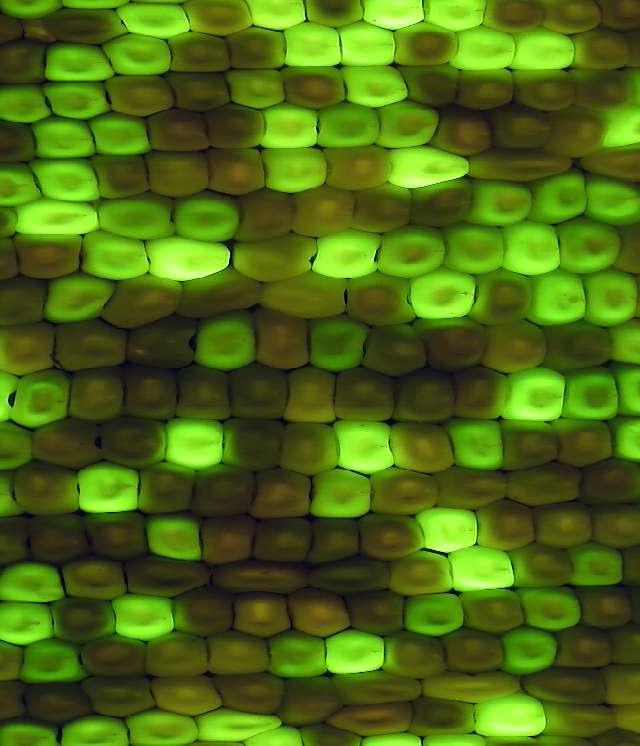fluorescent: (142, 231, 231, 280), (79, 229, 159, 282), (386, 143, 473, 189), (172, 190, 244, 245), (329, 419, 398, 475), (554, 218, 621, 275), (382, 226, 449, 282), (30, 154, 105, 203), (198, 311, 260, 370), (10, 197, 99, 238), (503, 366, 568, 422), (467, 691, 547, 736), (257, 144, 330, 193), (95, 195, 176, 239), (529, 270, 589, 329), (312, 231, 384, 280), (162, 417, 226, 472), (339, 63, 413, 110), (409, 271, 477, 322), (190, 705, 281, 743), (499, 223, 563, 277), (74, 463, 143, 513), (443, 223, 508, 276), (467, 177, 537, 226), (560, 365, 620, 422), (579, 270, 640, 326), (446, 547, 521, 592), (443, 417, 509, 468), (306, 316, 369, 369), (257, 100, 321, 152), (117, 707, 202, 746), (375, 102, 443, 150), (14, 372, 72, 428), (514, 585, 586, 630), (317, 101, 382, 150), (90, 110, 155, 159), (24, 116, 98, 159), (45, 275, 114, 321), (321, 628, 388, 675), (19, 640, 93, 682), (41, 40, 113, 83), (110, 595, 180, 639), (527, 175, 590, 223), (40, 77, 112, 119), (103, 34, 173, 77), (268, 630, 330, 678), (399, 593, 468, 636), (583, 173, 640, 225), (144, 513, 207, 560), (512, 26, 579, 70), (308, 469, 370, 516), (0, 560, 66, 604), (455, 26, 519, 71), (417, 507, 480, 552), (496, 626, 556, 673), (116, 3, 194, 38), (282, 25, 342, 70), (334, 21, 398, 63), (0, 598, 55, 646), (569, 543, 626, 589), (0, 158, 47, 210), (57, 713, 129, 746), (0, 82, 54, 125), (420, 1, 486, 34), (358, 1, 429, 30), (599, 100, 640, 144), (0, 717, 62, 746), (0, 421, 35, 470), (248, 1, 305, 31), (607, 322, 640, 370), (608, 416, 640, 462), (238, 727, 308, 746), (0, 1, 64, 20), (420, 732, 483, 746), (186, 734, 246, 746), (362, 734, 419, 746), (61, 1, 131, 9)
nonfluorescent: (100, 275, 189, 333), (260, 267, 349, 317), (345, 271, 422, 328), (50, 319, 133, 370), (175, 273, 268, 318), (127, 316, 203, 371), (251, 305, 316, 369), (82, 509, 158, 562), (232, 234, 320, 279), (467, 146, 575, 182), (365, 320, 433, 377), (540, 319, 616, 369), (277, 418, 339, 479), (418, 319, 492, 370), (119, 364, 181, 424), (32, 416, 106, 466), (283, 362, 339, 428), (102, 417, 173, 469), (498, 418, 562, 475), (332, 367, 398, 422), (391, 370, 457, 424), (389, 421, 455, 475), (125, 558, 214, 598), (290, 186, 357, 239), (172, 365, 235, 421), (367, 468, 439, 517), (282, 589, 354, 638), (48, 596, 121, 644), (204, 145, 270, 198), (484, 321, 551, 373), (222, 415, 282, 473), (319, 144, 396, 189), (226, 363, 289, 418), (40, 8, 131, 46), (500, 465, 582, 507), (213, 560, 314, 594), (13, 231, 86, 278), (430, 105, 494, 158), (26, 512, 91, 564), (0, 323, 60, 379), (475, 268, 536, 323), (472, 502, 539, 552), (16, 465, 83, 515), (277, 677, 342, 728), (248, 514, 317, 562), (380, 631, 448, 679), (329, 670, 425, 704), (148, 148, 213, 198), (487, 104, 553, 153), (192, 465, 256, 515), (359, 511, 427, 558), (145, 632, 213, 679), (422, 673, 525, 704), (433, 467, 509, 509), (64, 370, 125, 422), (280, 65, 350, 110), (520, 671, 610, 706), (212, 674, 287, 716), (102, 73, 175, 116), (85, 670, 153, 716), (149, 673, 224, 714), (546, 107, 610, 155), (235, 189, 295, 240), (457, 591, 528, 634), (552, 417, 613, 467), (136, 463, 198, 512), (453, 366, 509, 420), (206, 103, 270, 150), (228, 592, 296, 636), (253, 469, 315, 517), (167, 68, 236, 111), (82, 632, 151, 675), (196, 515, 255, 565), (509, 68, 577, 111), (170, 593, 238, 636), (410, 695, 481, 736), (206, 632, 272, 676), (392, 25, 461, 67), (442, 629, 506, 674), (530, 501, 595, 545), (332, 700, 413, 735), (311, 560, 394, 594), (552, 627, 616, 671), (411, 182, 473, 227), (90, 153, 153, 197), (353, 187, 414, 232), (146, 111, 211, 153), (224, 27, 289, 69), (401, 62, 460, 108), (567, 67, 630, 110), (26, 680, 92, 721), (0, 277, 53, 328), (580, 460, 640, 505), (347, 590, 407, 635), (309, 516, 364, 565), (570, 27, 631, 71), (166, 34, 233, 74), (65, 560, 128, 602), (574, 587, 638, 628), (455, 67, 515, 110), (512, 546, 572, 589), (185, 1, 253, 38), (394, 555, 453, 597), (542, 702, 616, 735), (480, 1, 547, 36), (590, 502, 640, 548), (538, 1, 605, 35), (582, 147, 640, 182), (0, 41, 48, 83), (600, 661, 640, 706), (0, 117, 39, 163), (304, 1, 366, 29), (0, 516, 34, 565), (299, 725, 365, 746), (597, 1, 640, 32), (609, 624, 640, 666), (610, 698, 640, 734), (594, 732, 640, 746)
